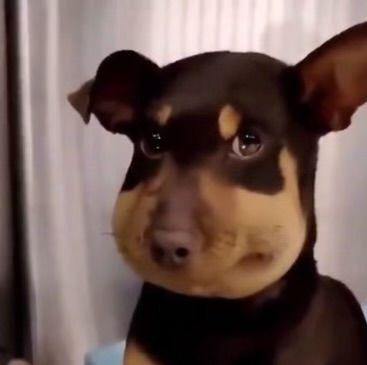adult_dog: (68, 21, 367, 365)
